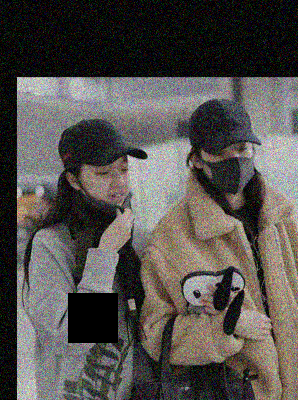mask_weared_incorrect: (75, 154, 129, 211)
with_mask: (199, 144, 254, 194)
